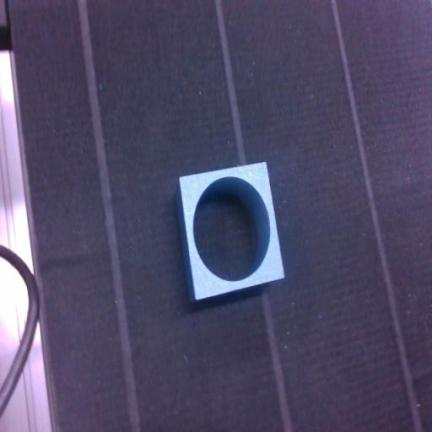hole: (179, 163, 284, 300)
